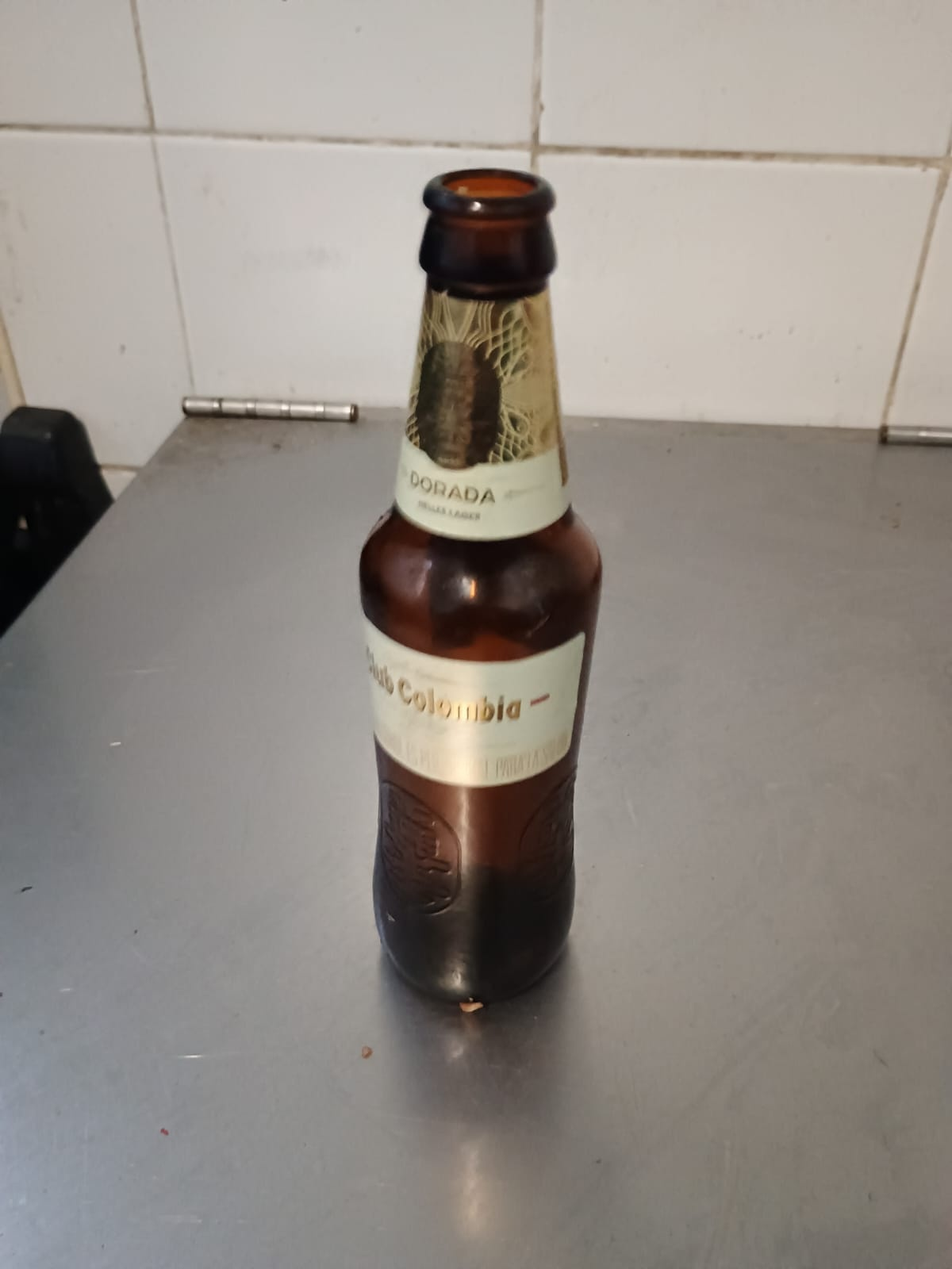Vidrio: (361, 168, 602, 1009)
